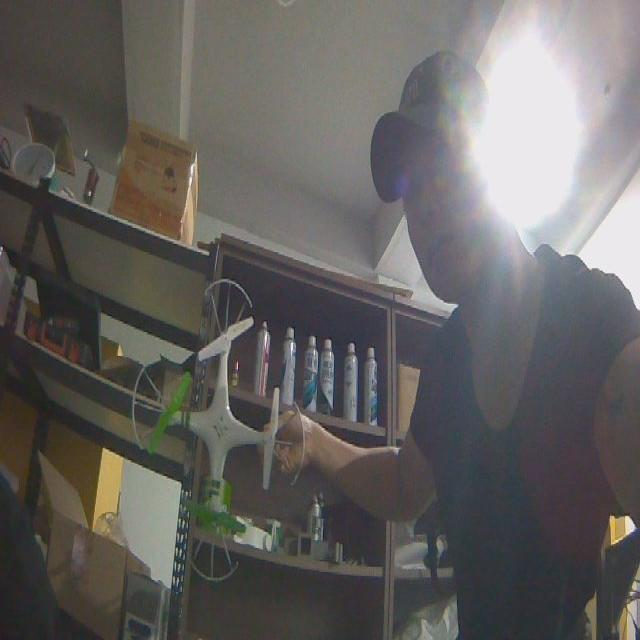drone: (132, 276, 306, 585)
